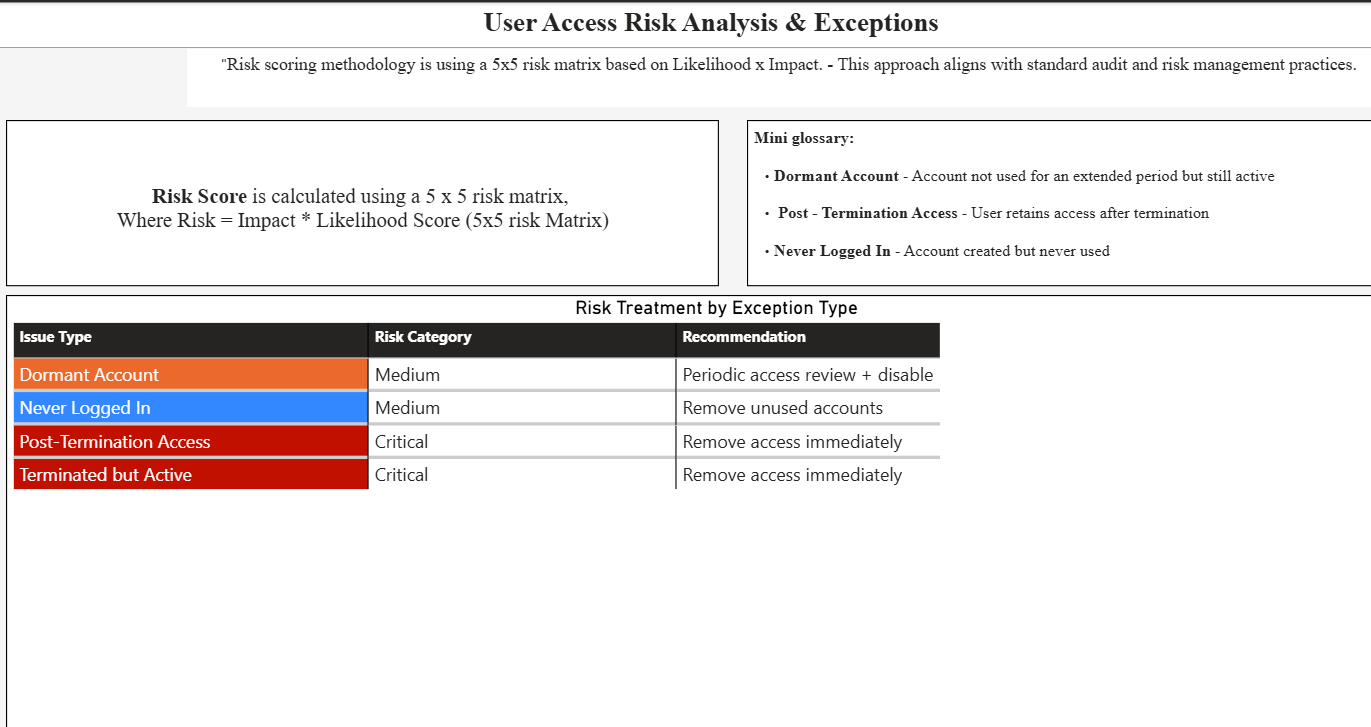

The dashboard page shown, as its layout file describes it:
{"tool":"powerbi","page":{"name":"Risk Scoring Methodology","canvas":[1280,726],"ordinal":2},"visuals":[{"type":"textbox","box":[0,0,1280,41.3],"z":0},{"type":"tableEx","title":"Risk Treatment by Exception Type","fields":{"Values":["HR_List.Audit_Flag","HR_List.Risk Category","HR_List.ControlStatus4 GlossTable"]},"box":[8.3,262.2,1271.7,463.3],"z":6000},{"type":"textbox","box":[170.6,41.9,1109.4,51.9],"z":11000},{"type":"textbox","box":[8.3,105.7,639.5,149.2],"z":14000},{"type":"textbox","box":[672.6,105.7,607.4,149.2],"z":15000}]}

Visuals, with their boxes on the page's 1280x726 design canvas (x1, y1, x2, y2). These are canvas units, not pixel positions in the 1371x727 screenshot, which may show the page scaled, cropped or inside an application window:
textbox: select_region(0, 0, 1280, 41)
"Risk Treatment by Exception Type" tableEx: select_region(8, 262, 1280, 726)
textbox: select_region(171, 42, 1280, 94)
textbox: select_region(8, 106, 648, 255)
textbox: select_region(673, 106, 1280, 255)
